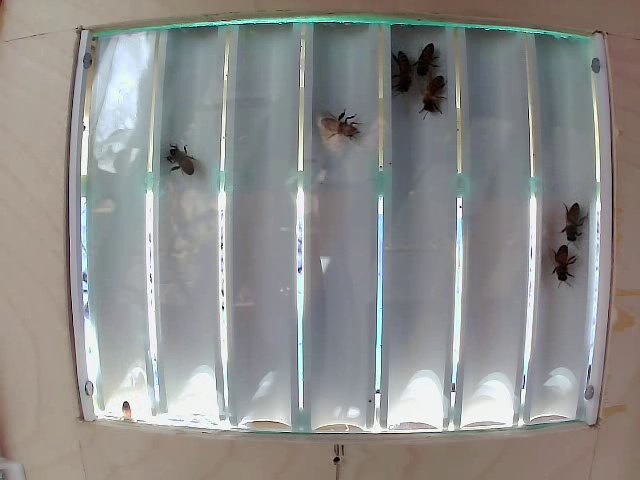bee: (171, 137, 205, 190), (384, 44, 420, 92), (418, 75, 459, 111), (317, 112, 355, 148), (562, 201, 593, 242), (415, 36, 441, 76), (550, 241, 567, 290)
